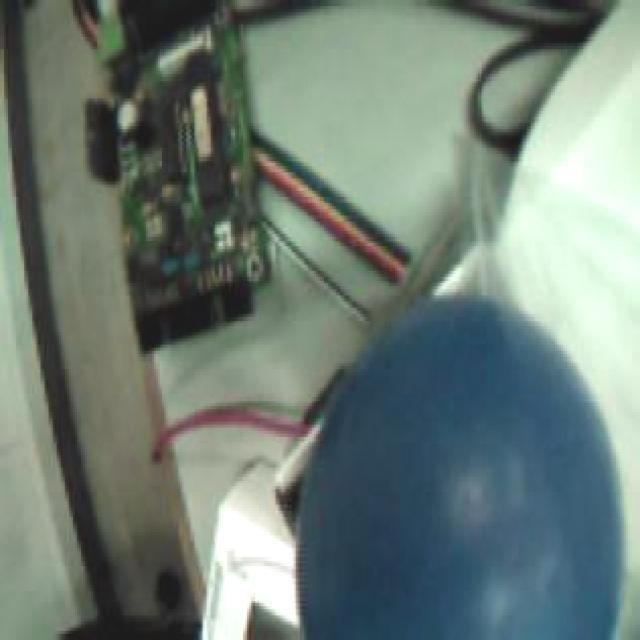BallPurple: (298, 297, 624, 640)
